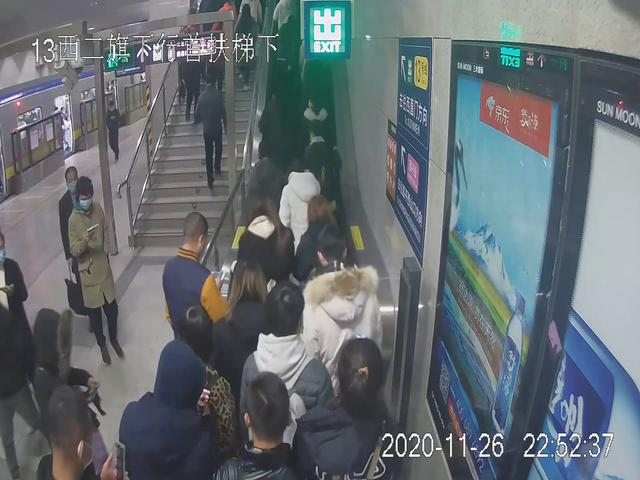person: (295, 337, 414, 479), (302, 222, 380, 438), (160, 208, 226, 419), (66, 178, 130, 365), (57, 165, 91, 301), (196, 70, 224, 190), (101, 100, 120, 162)
